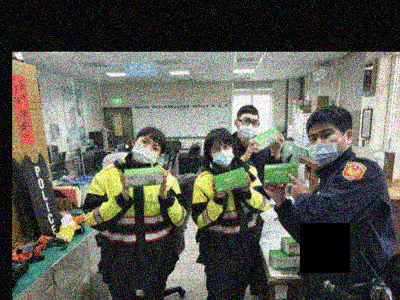with_mask: (307, 126, 346, 166), (131, 136, 161, 166), (210, 142, 235, 167), (237, 116, 260, 141)
